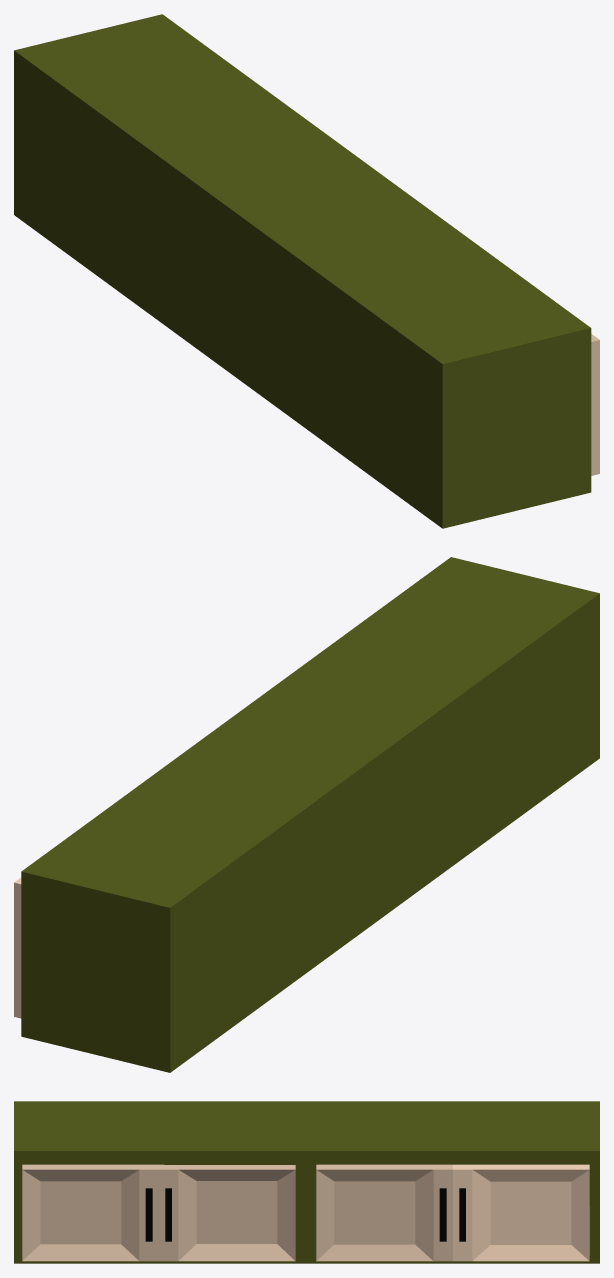
Rendered from cabinet.glb.
The picture shows the model from 3 angles, top to bottom: view 1: azimuth 30°, elevation 25°; view 2: azimuth 150°, elevation 25°; view 3: azimuth 270°, elevation 25°; orthographic projection. The views are drawn at different scales.
Parts seen in each view (by area): view 1: Cube, Cube.001; view 2: Cube, Cube.004; view 3: Cube, Cube.001, Cube.003, Cube.004, Cube.002.
Part boxes in pixels (x1,y1,x2,y2): Cube: [14, 14, 591, 528]; Cube.001: [591, 334, 599, 475]; Cube: [21, 557, 599, 1072]; Cube.004: [14, 877, 21, 1018]; Cube: [14, 1101, 599, 1263]; Cube.001: [22, 1164, 158, 1261]; Cube.003: [316, 1164, 452, 1261]; Cube.004: [453, 1164, 589, 1261]; Cube.002: [159, 1164, 295, 1261].
Size of the model in its own units: 2.2 by 2.12 by 10.
